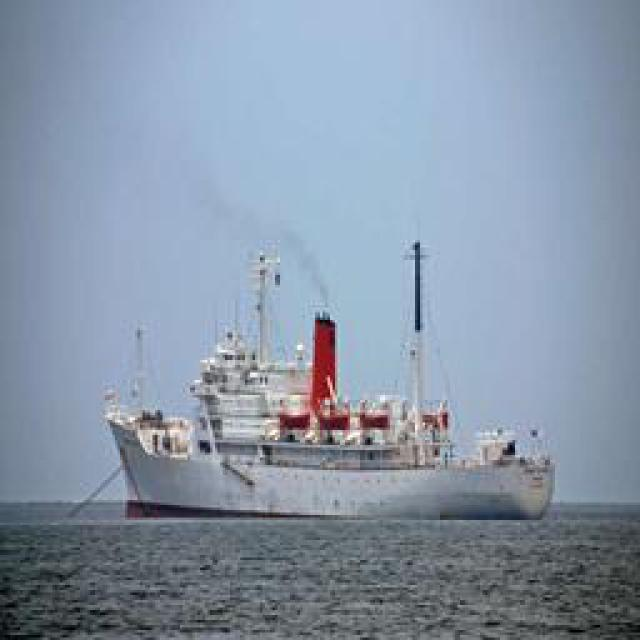Ship: (102, 219, 565, 524)
